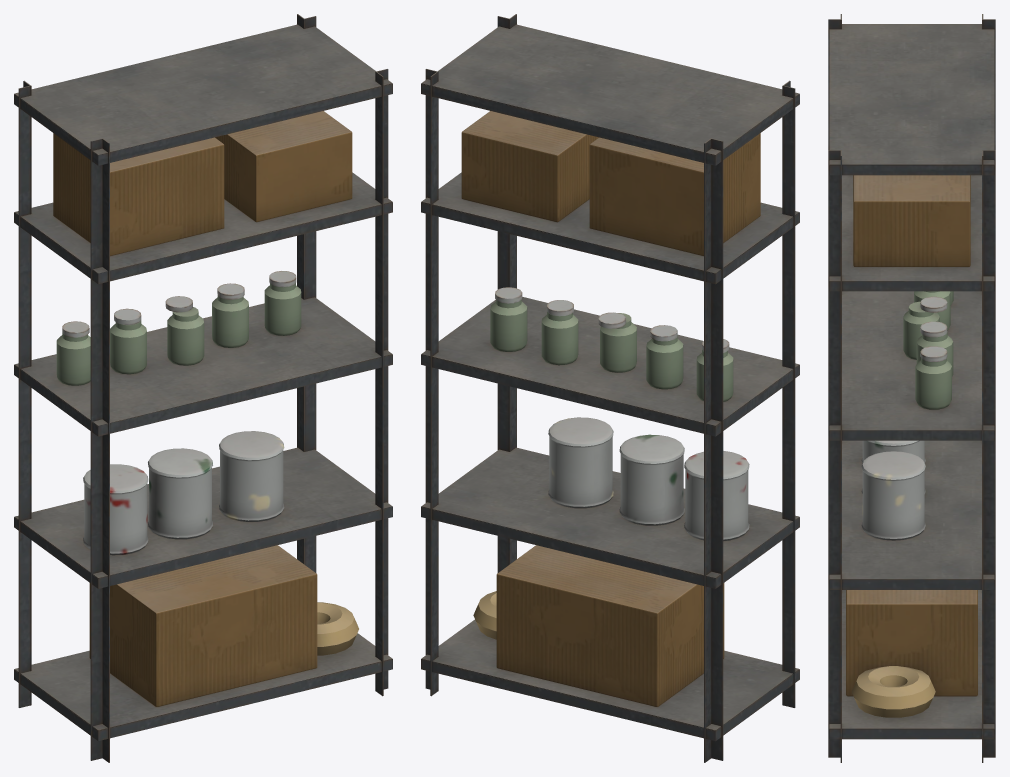
File: shelving.glb
3 views of the same model, side by side, from view 1: azimuth 30°, elevation 25°; view 2: azimuth 150°, elevation 25°; view 3: azimuth 270°, elevation 25° (orthographic). The views are drawn at different scales.
Visible parts, largest first — view 1: shelving; view 2: shelving; view 3: shelving.
Boxes of the visible parts, x1,y1,x2,y2 form: shelving: (14, 14, 392, 762); shelving: (421, 14, 799, 762); shelving: (828, 14, 995, 762).
Size of the model in its own units: 0.918 by 1.83 by 0.458.
Materials: 1 (1 with a texture image).
